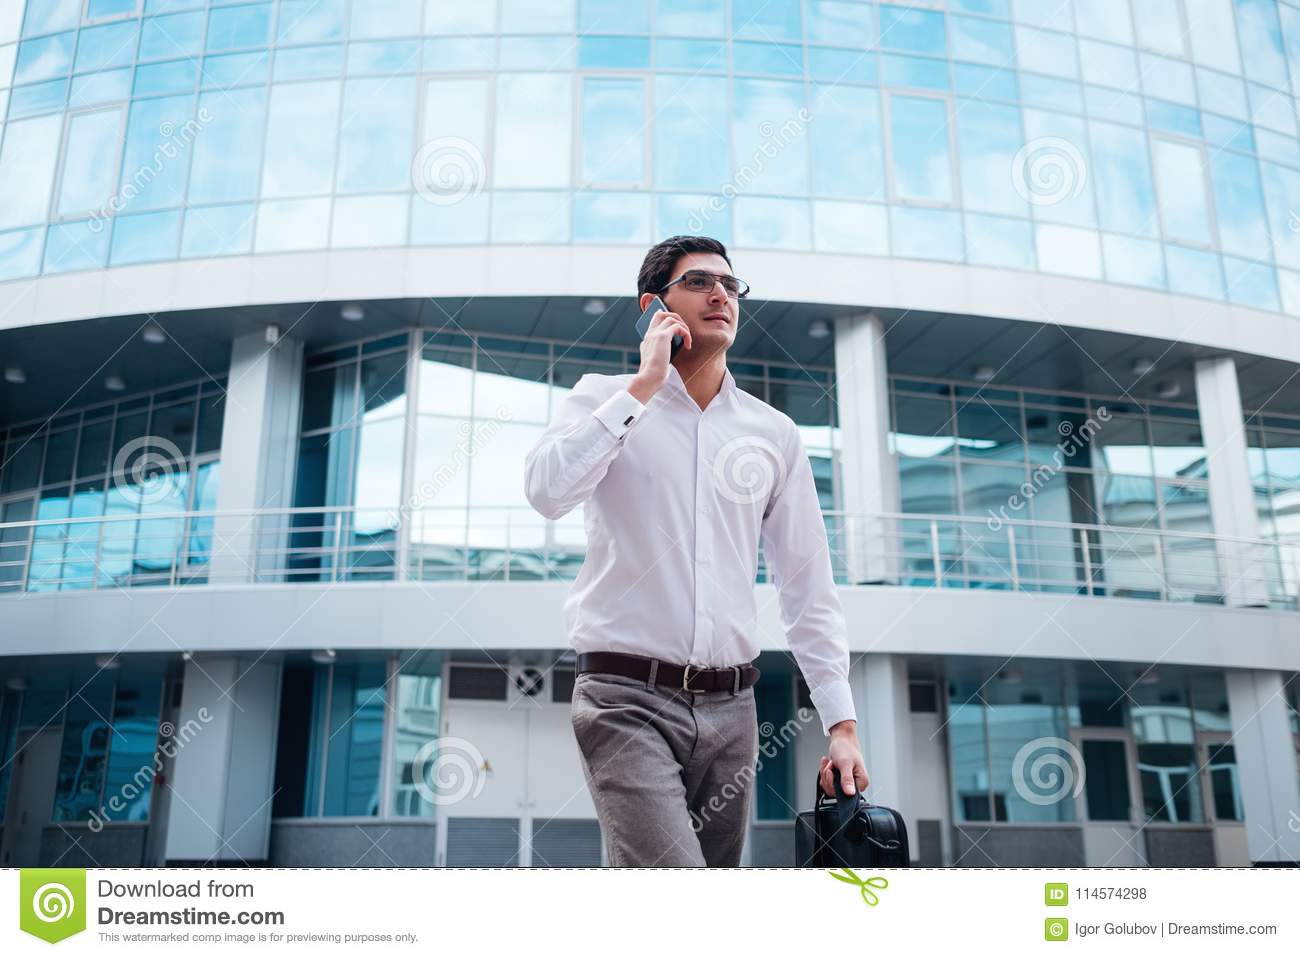phone: (635, 295, 683, 365)
talk: (637, 261, 744, 391)
